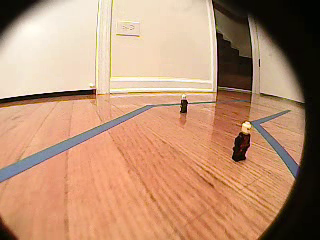Person: (232, 119, 255, 164), (179, 93, 190, 114)
